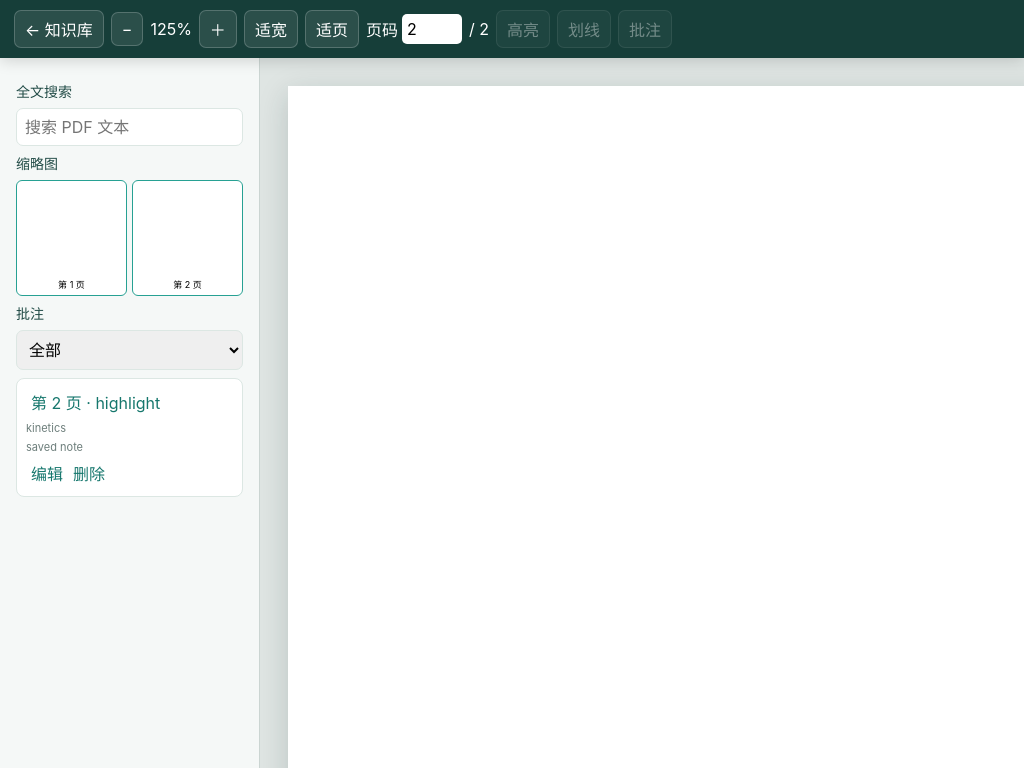
Test: PdfReaderPage › restores reading state and searches extracted page text
The width and height of the screenshot is (1024, 768).
Expected: the text "/ 2" is shown, [469, 19, 489, 39]
Expected: the number field showing "2" is shown, [402, 14, 462, 44]
Step 1. Type "kinetics" into the field with placeholder "搜索 PDF 文本" → [130, 127], box [16, 108, 243, 146]
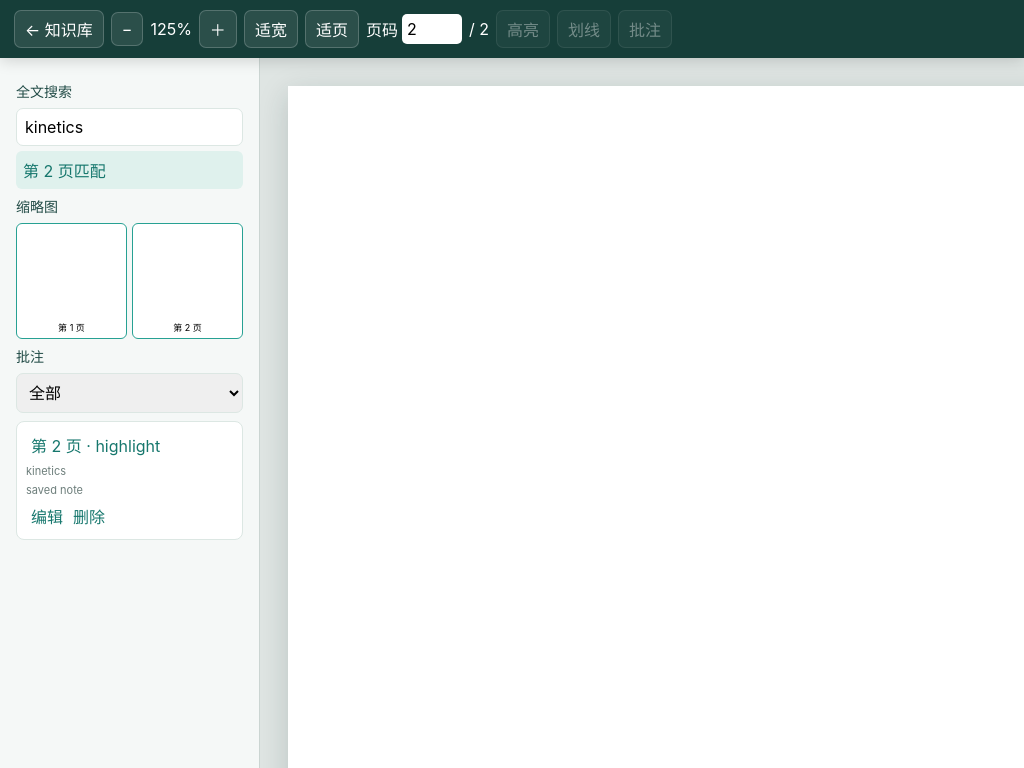
Expected: the button "高亮" is disabled, [496, 10, 550, 48]
Now the button "第 2 页匹配" is shown, box [16, 151, 243, 189]
